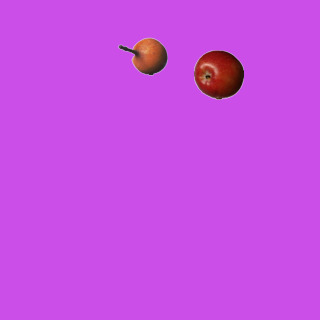Apple Braeburn: (193, 49, 243, 99)
Granadilla: (117, 31, 167, 81)
